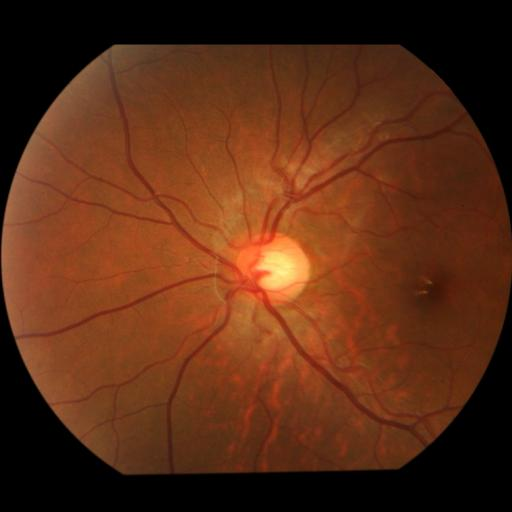Optic Cup: (253, 249, 296, 291)
Optic Disc: (233, 232, 310, 306)
